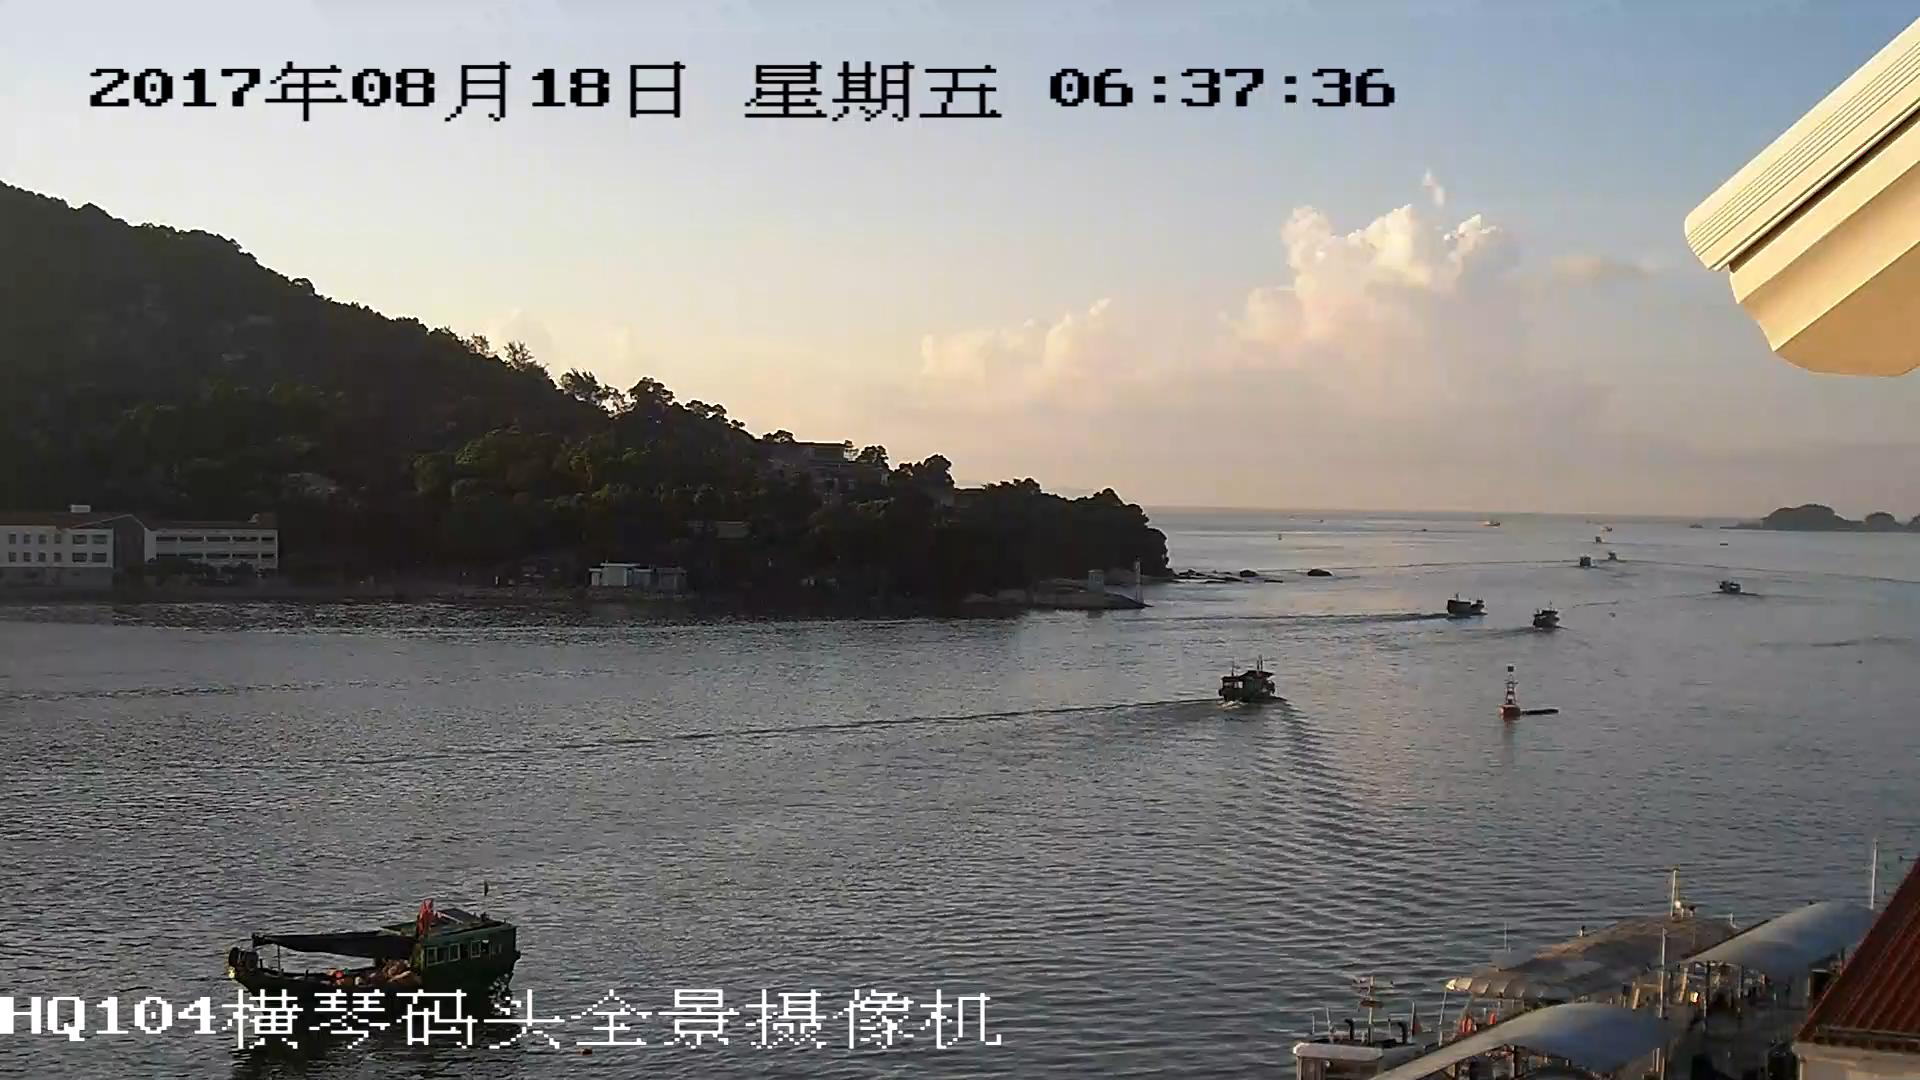fishing boat: (220, 915, 523, 990), (1220, 670, 1277, 702)
